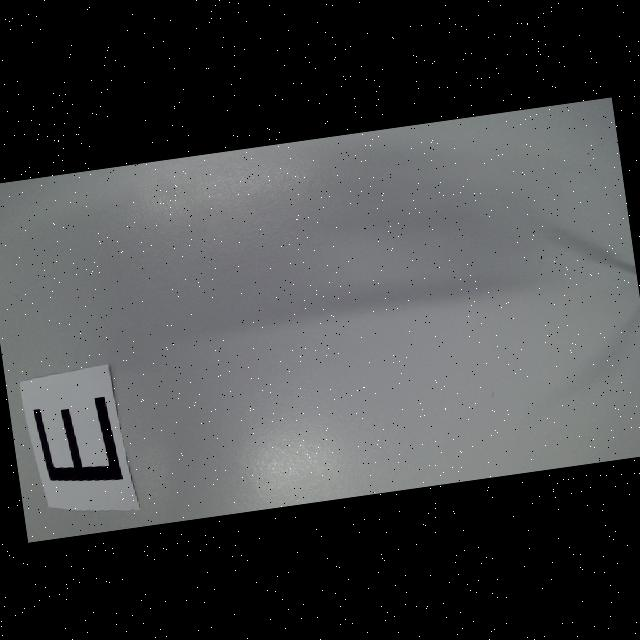FAKE: (33, 395, 124, 491)
